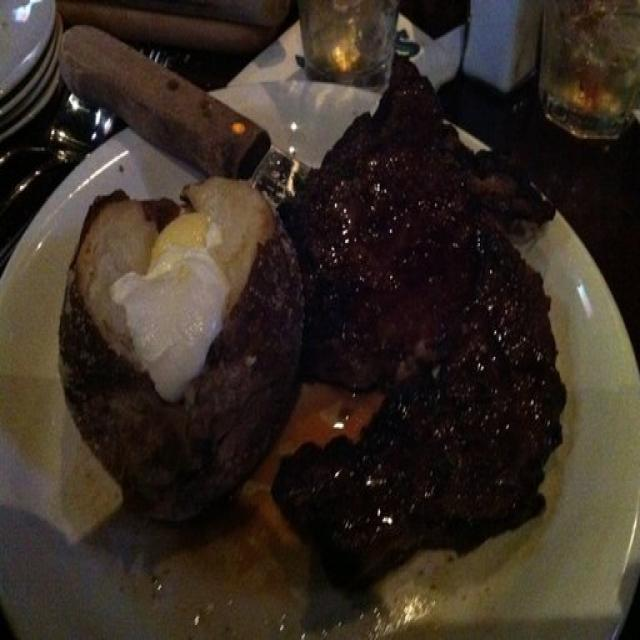Steak: (310, 92, 560, 568)
